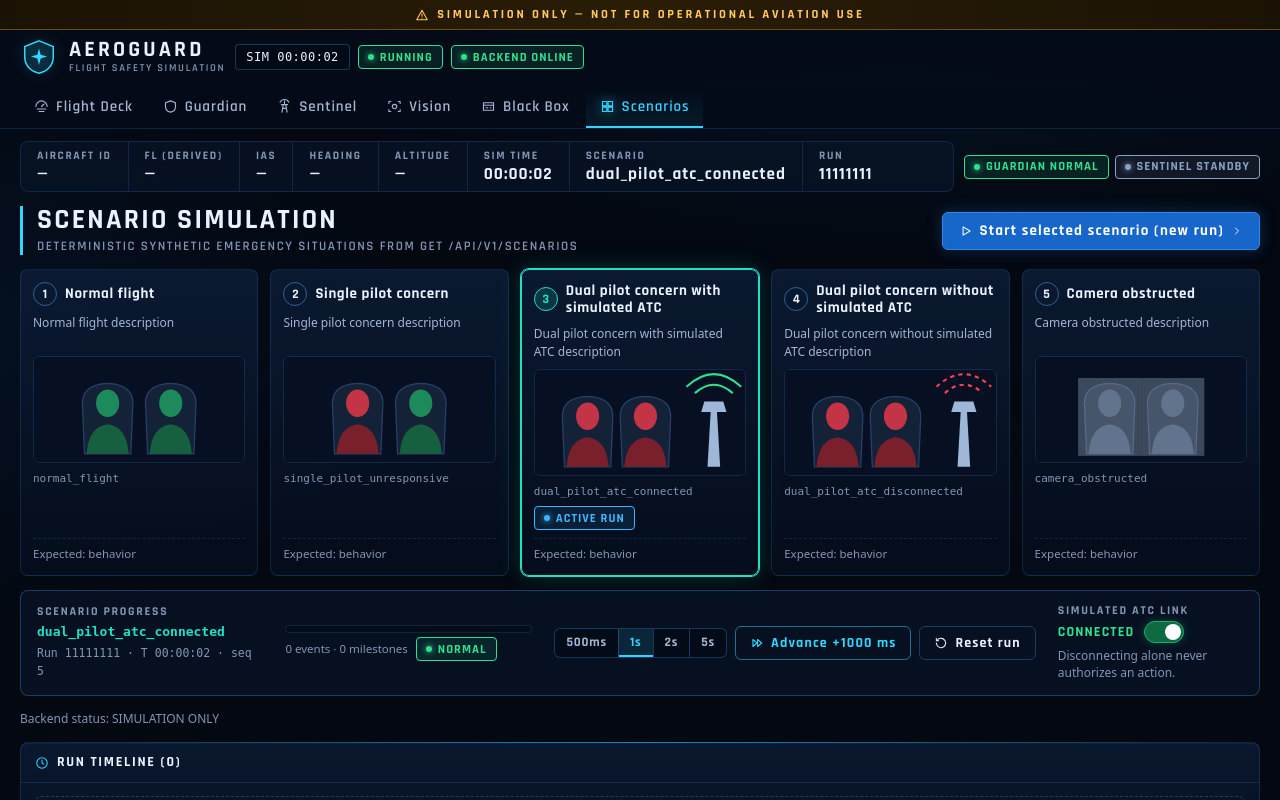
Test: REVIEW FIX 1: command-side HTTP 5xx is an uncertain outcome › still reports a structured 409 as a confirmed rejection without a retry
Click the button "Advance +1000 ms" at point(823, 643), box [735, 626, 912, 660]
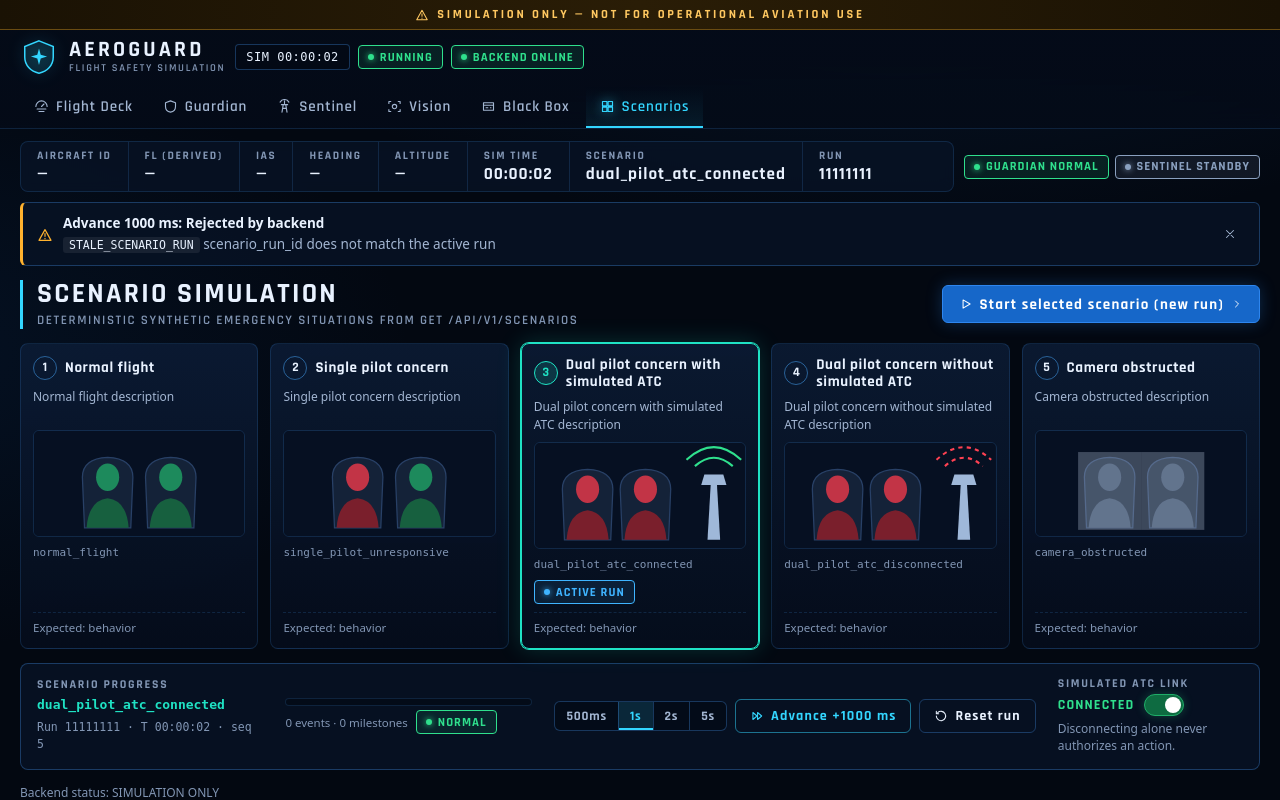
Check: the text "Advance 1000 ms: Rejected by backend" is shown, box [63, 214, 324, 232]
